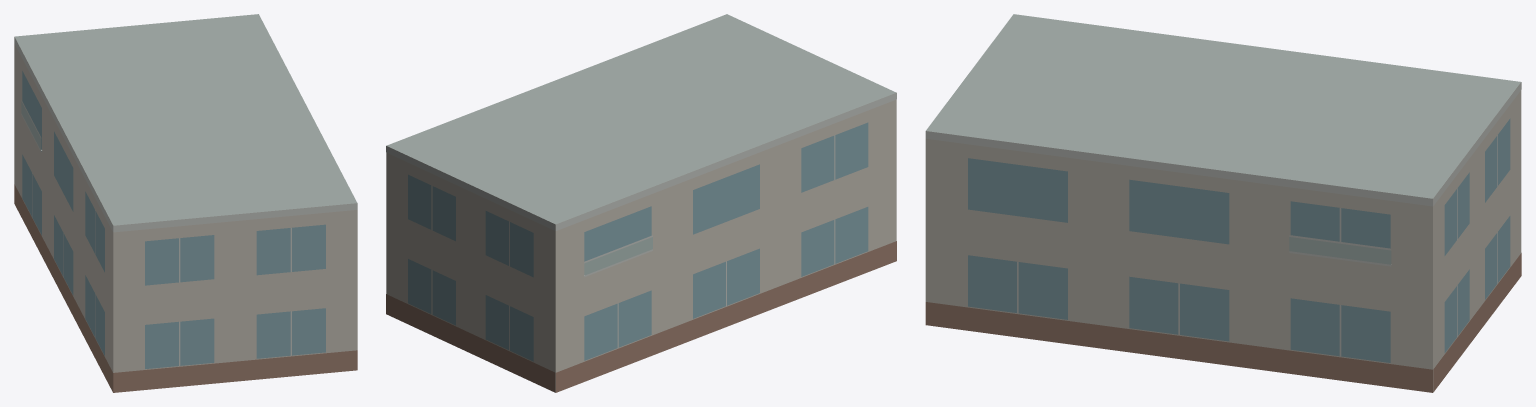
Rendered from survey-upis-32948441.glb.
The picture shows the model from 3 angles, left to right: view 1: azimuth 30°, elevation 25°; view 2: azimuth 150°, elevation 25°; view 3: azimuth 270°, elevation 25°; orthographic projection. The views are drawn at different scales.
Parts seen in each view (by area): view 1: survey-upis-32948441.tmp; view 2: survey-upis-32948441.tmp; view 3: survey-upis-32948441.tmp.
Part boxes in pixels (<box>): survey-upis-32948441.tmp: <box>14,14,357,392</box>; survey-upis-32948441.tmp: <box>386,14,896,392</box>; survey-upis-32948441.tmp: <box>925,14,1521,392</box>.
Bounding box in the file's own units: 12.47 × 6.1 × 16.98.
